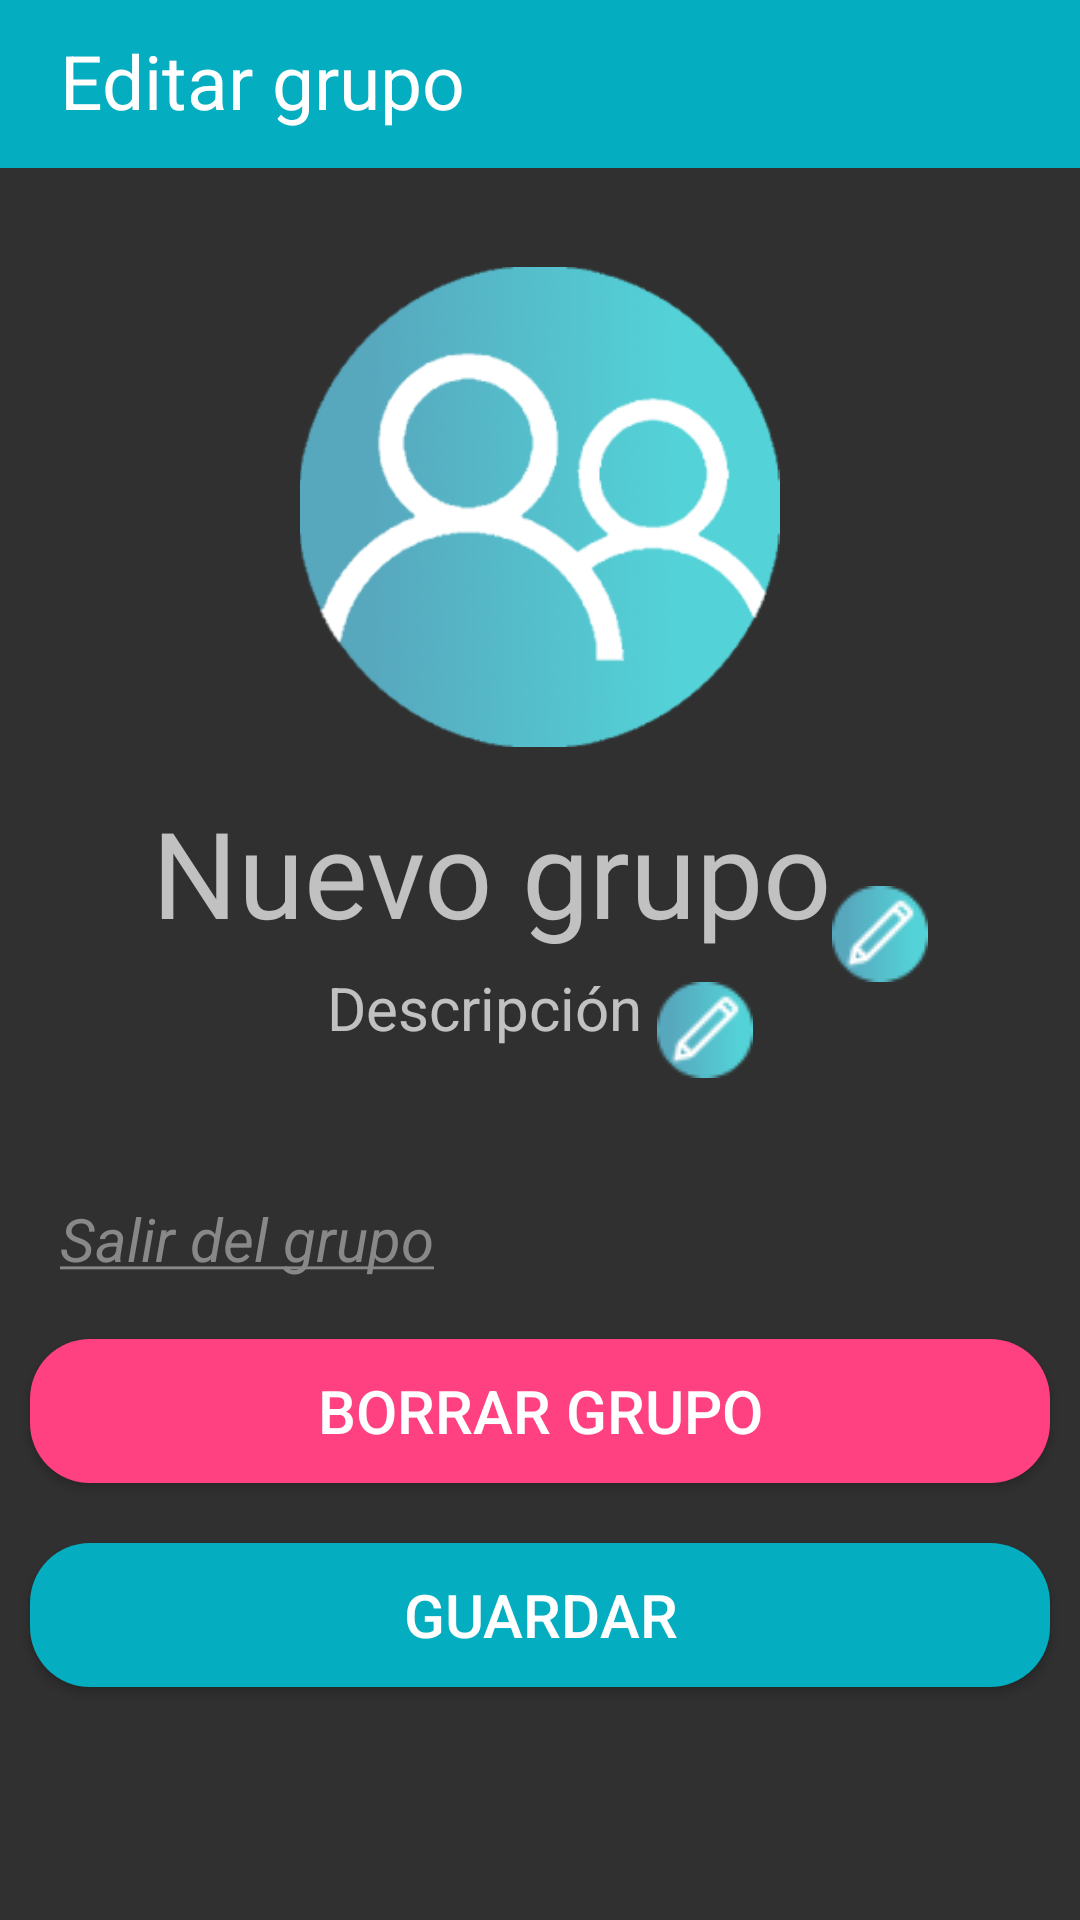

Screen size 1080px x 1920px. Icon name, then its center in pixels as (x,y):
edit: (880,934), (705,1030)
